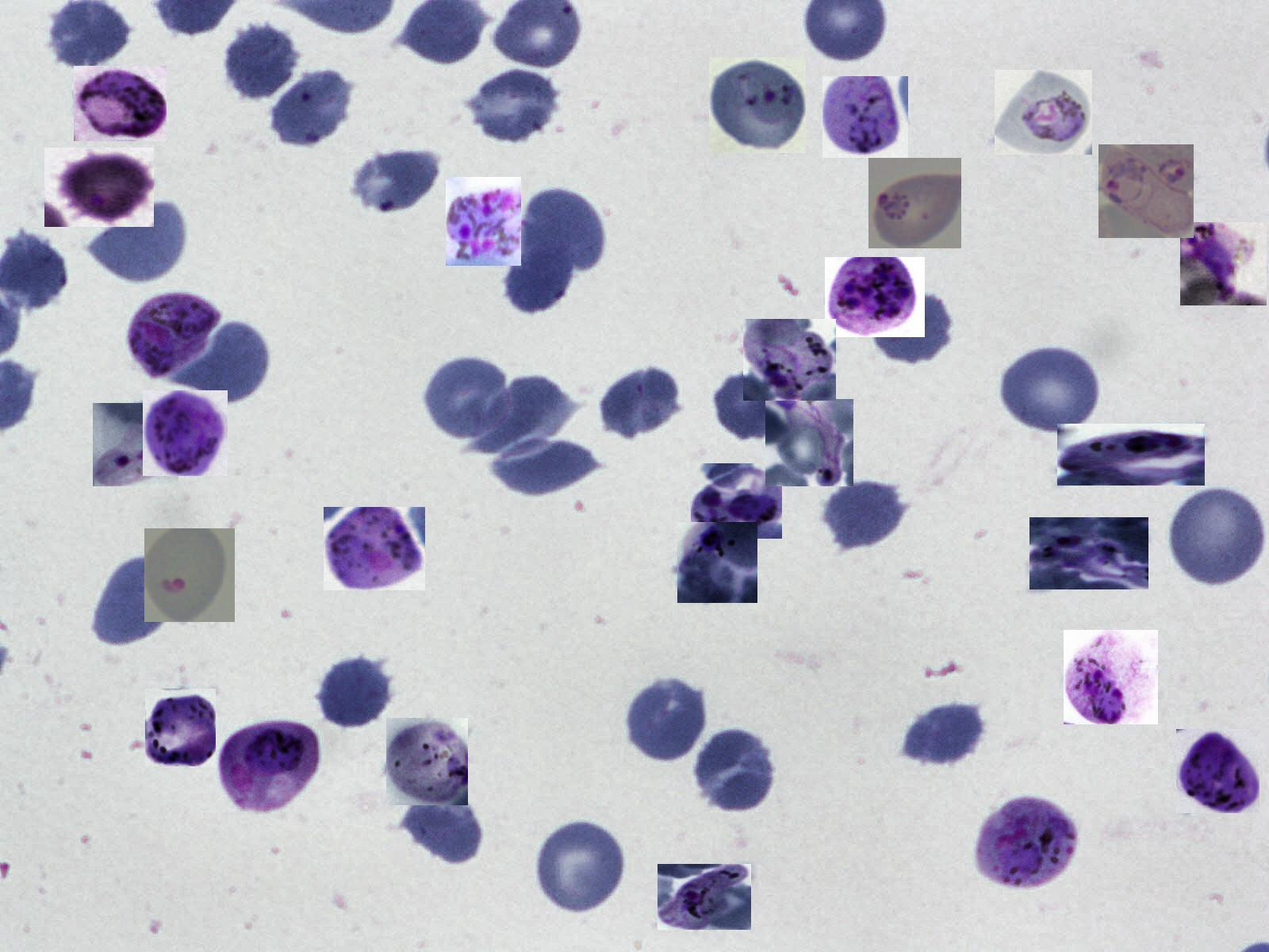Infected: (219, 716, 322, 816), (976, 797, 1077, 894), (709, 57, 806, 153), (1057, 424, 1205, 486), (127, 287, 223, 382), (1098, 144, 1194, 238), (1064, 630, 1158, 724), (45, 148, 154, 227), (1029, 517, 1148, 589), (144, 528, 235, 622), (324, 508, 425, 591), (868, 158, 961, 248), (995, 70, 1092, 155), (825, 257, 925, 337), (765, 399, 853, 486), (743, 319, 836, 401), (143, 390, 228, 476), (1180, 222, 1267, 305), (386, 718, 468, 805), (93, 403, 178, 486), (822, 76, 908, 158), (74, 66, 167, 141), (1176, 729, 1259, 813), (691, 463, 782, 539), (446, 177, 521, 266), (677, 522, 757, 603), (658, 864, 751, 930), (146, 689, 216, 766)
Uninfected: (1166, 482, 1268, 590), (999, 342, 1103, 438), (86, 194, 190, 287), (534, 816, 628, 916), (169, 319, 271, 407), (470, 374, 575, 457), (92, 553, 181, 649), (518, 186, 608, 280), (264, 63, 355, 151), (624, 674, 710, 764), (466, 65, 562, 145), (403, 779, 488, 869), (425, 354, 512, 440), (693, 728, 777, 816), (868, 289, 957, 367), (491, 435, 604, 496), (596, 362, 684, 440), (220, 19, 301, 102), (901, 696, 990, 770), (711, 365, 794, 441), (351, 149, 443, 217), (316, 653, 393, 731), (499, 234, 573, 315), (819, 480, 907, 547), (46, 1, 131, 70)
